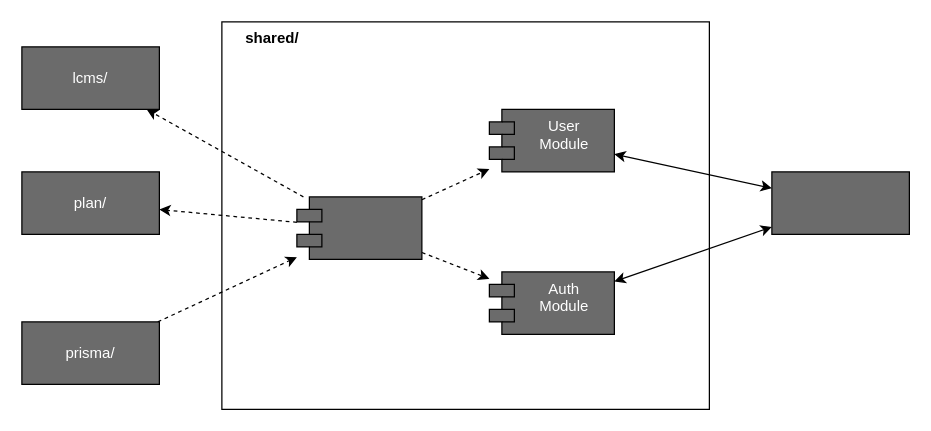
The diagram is 931 pixels wide and 431 high, and some of its shapes have lost their labels. Here are the shapes that lost their labels. From the top down, the centre of each, then its label:
(840,202): StudyCourse Frontend
(359,227): Prisma Module
